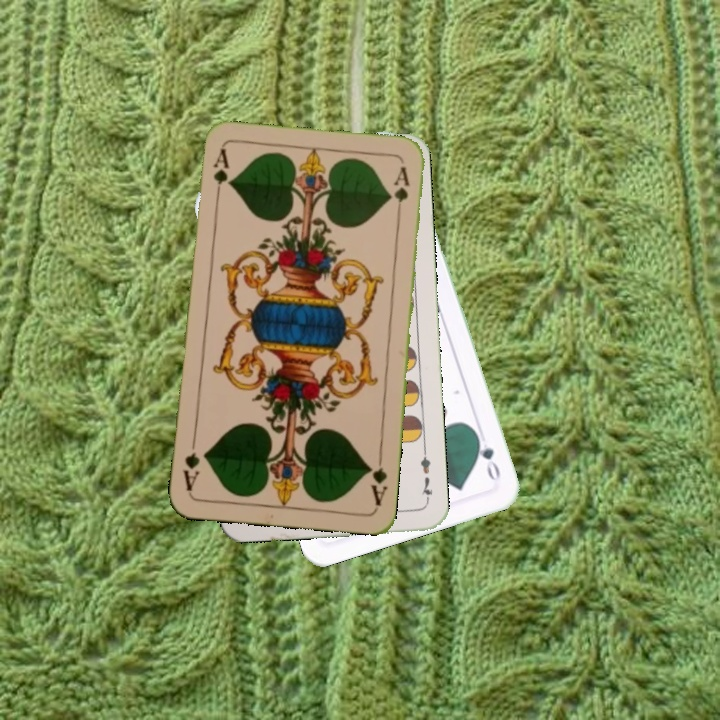E7: (417, 447, 435, 506)
GA: (364, 450, 390, 509), (209, 145, 231, 204)
GO: (471, 429, 503, 483)
